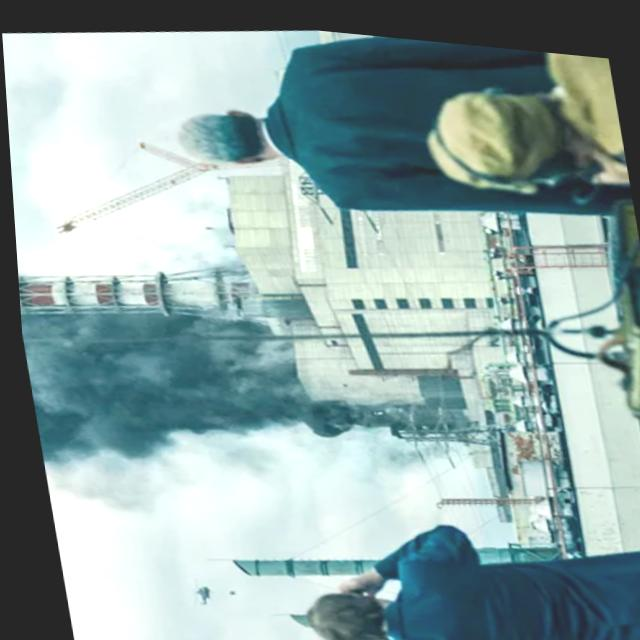Smoke: (15, 281, 310, 459)
